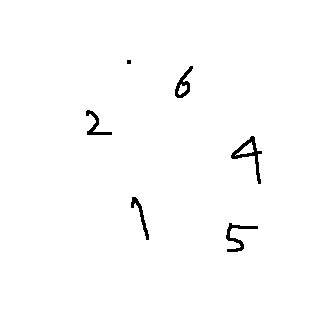.: (125, 55, 139, 74)
1: (120, 190, 160, 253)
2: (79, 102, 122, 143)
4: (222, 131, 275, 190)
5: (222, 215, 262, 272)
6: (171, 58, 201, 104)
